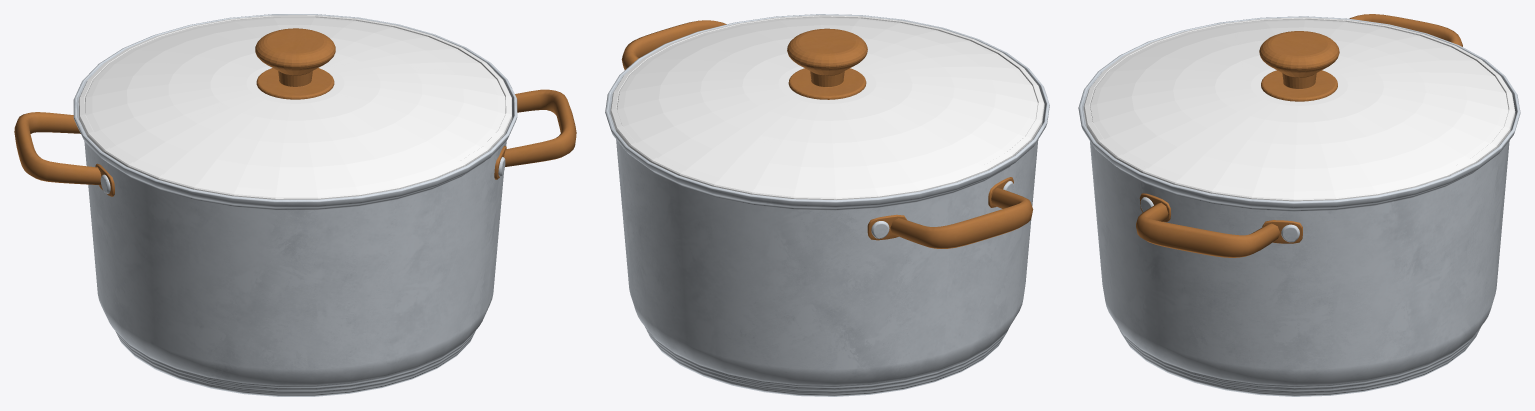
Rendered from tencere-turuncu-kulp.glb.
3 renders of one model, left to right at view 1: azimuth 30°, elevation 25°; view 2: azimuth 150°, elevation 25°; view 3: azimuth 270°, elevation 25°, orthographic.
Visible parts, largest first — view 1: Circle.001; view 2: Circle.001; view 3: Circle.001.
Part boxes in pixels (<box>): Circle.001: <box>14,14,576,396</box>; Circle.001: <box>605,14,1049,396</box>; Circle.001: <box>1078,14,1520,396</box>.
Bounding box in the file's own units: 0.3131 × 0.1773 × 0.257.
Materials: 5 (3 with a texture image).
